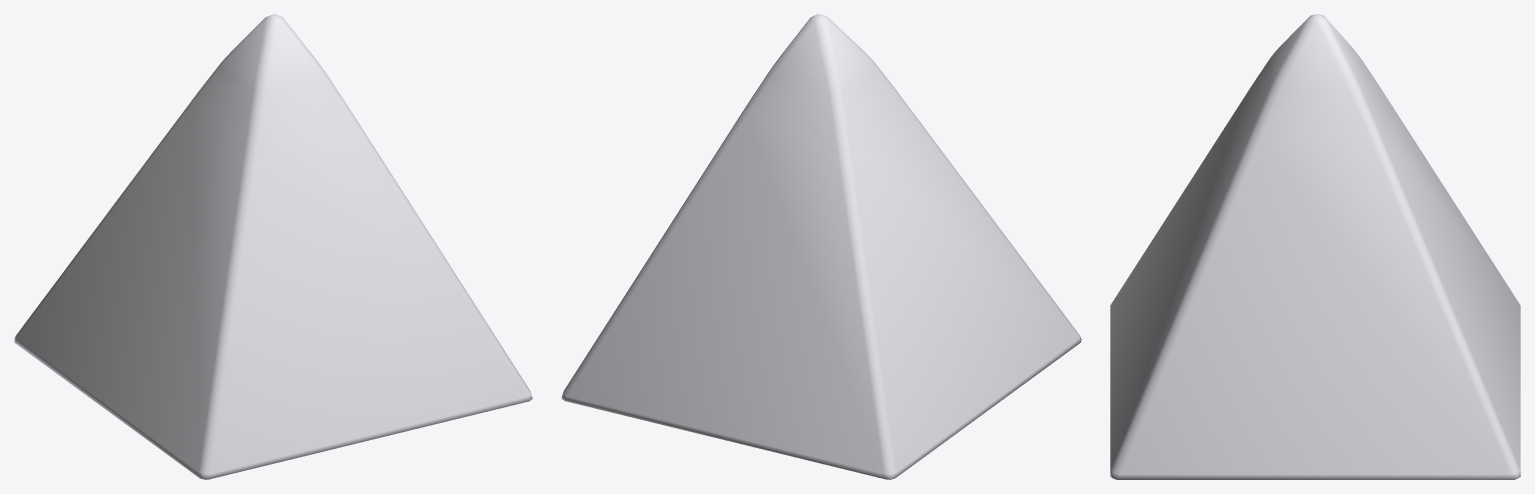
File: bush-45_col.fbx
3 views of the same model, side by side, from view 1: azimuth 30°, elevation 25°; view 2: azimuth 150°, elevation 25°; view 3: azimuth 270°, elevation 25° (orthographic). The views are drawn at different scales.
Visible parts, largest first — view 1: bush-45.col; view 2: bush-45.col; view 3: bush-45.col.
Boxes of the visible parts, x1,y1,x2,y2 form: bush-45.col: (14,14,532,479); bush-45.col: (561,14,1081,479); bush-45.col: (1110,14,1520,479).
Size of the model in its own units: 0.0641 by 0.0659 by 0.0641.
1 material, 1 textured.
